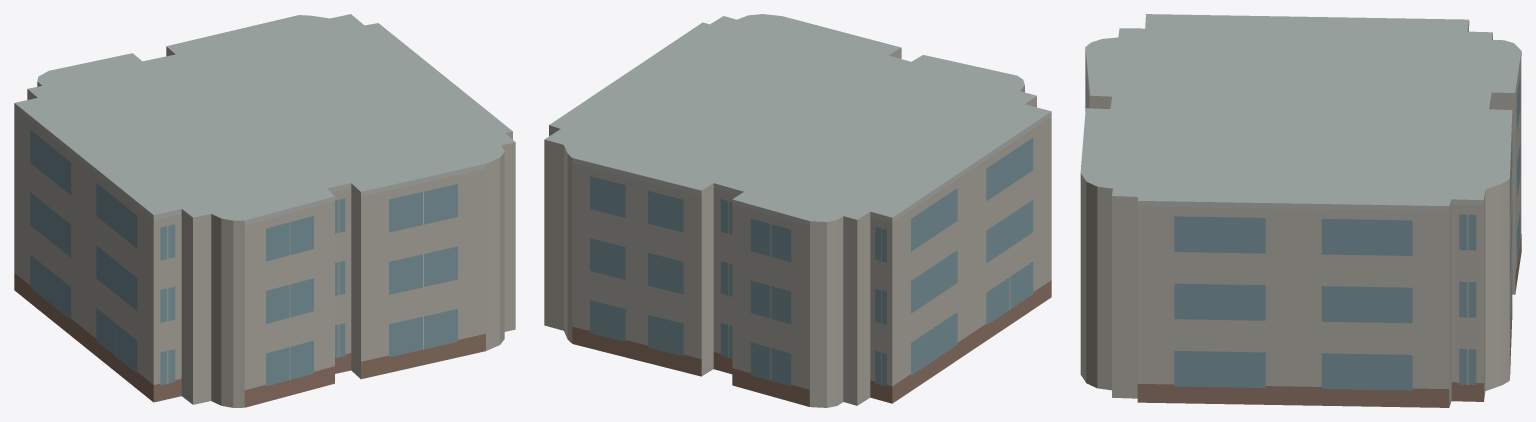
File: survey-upis-32654468.glb
The picture shows the model from 3 angles, left to right: view 1: azimuth 30°, elevation 25°; view 2: azimuth 150°, elevation 25°; view 3: azimuth 270°, elevation 25°; orthographic projection. The views are drawn at different scales.
Parts seen in each view (by area): view 1: survey-upis-32654468.tmp; view 2: survey-upis-32654468.tmp; view 3: survey-upis-32654468.tmp.
Boxes of the visible parts, <box> form: survey-upis-32654468.tmp: <box>14,14,515,407</box>; survey-upis-32654468.tmp: <box>544,14,1051,407</box>; survey-upis-32654468.tmp: <box>1080,14,1521,407</box>.
Bounding box in the file's own units: 18.7 × 9.15 × 18.13.
